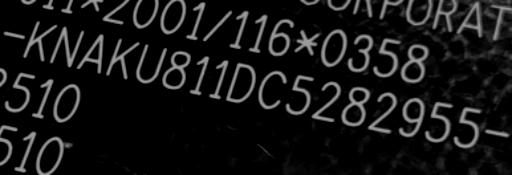letter: (277, 71, 323, 124), (100, 33, 142, 83), (220, 56, 260, 107), (20, 16, 60, 66), (130, 40, 172, 86), (71, 30, 109, 79), (48, 24, 88, 70), (364, 87, 400, 138), (308, 79, 344, 128), (338, 81, 374, 130), (449, 101, 483, 151), (254, 66, 288, 115), (422, 95, 456, 144), (396, 94, 430, 140), (160, 47, 194, 92), (182, 55, 214, 96), (206, 56, 232, 105)
